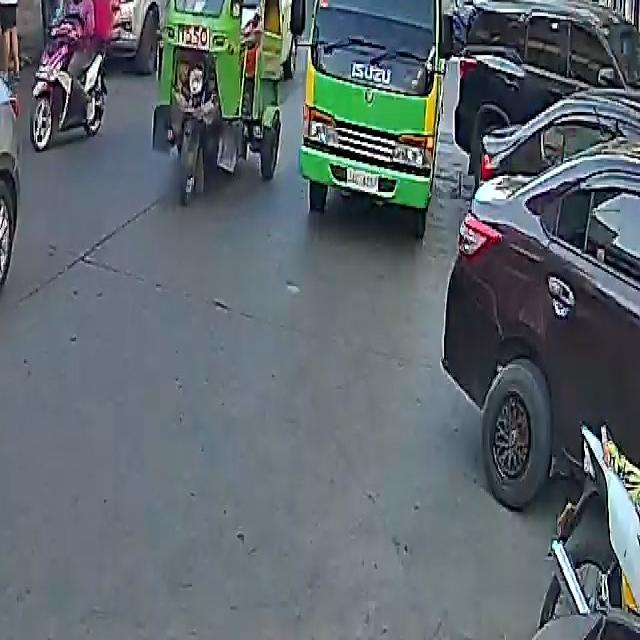car: (442, 50, 640, 535), (452, 0, 640, 187), (0, 0, 32, 468), (80, 0, 175, 66)
